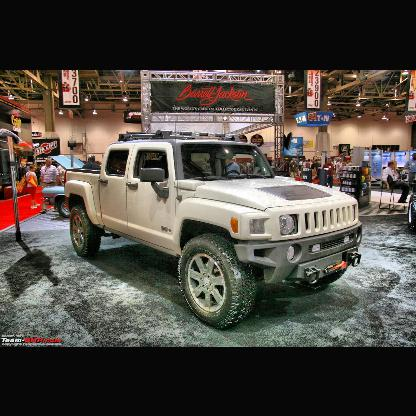HUMMER H3T Crew Cab 2010: (65, 130, 363, 333)
